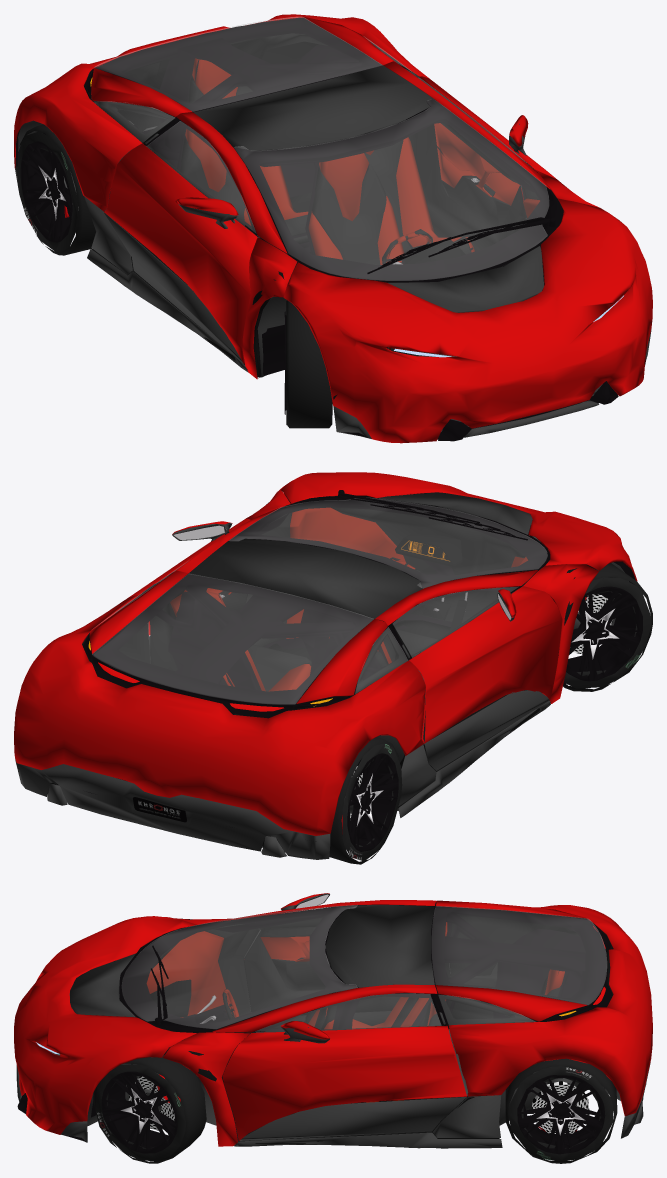
File: car.glb
3 views of the same model, one above another, from view 1: azimuth 30°, elevation 25°; view 2: azimuth 150°, elevation 25°; view 3: azimuth 270°, elevation 25° (orthographic). The views are drawn at different scales.
Visible parts, largest first — view 1: BodyRearPanelsColor1, BodyWindshield, BodyWindshieldGasket, BodyRoofPanel, InteriorDashSides, InteriorDashMid, InteriorSeatsColor2, object 21, WheelFrontLRim, InteriorMid, BodyUnderside, InteriorSteeringDash; view 2: BodyRearPanelsColor1, BodyWindshield, BodyRoofPanel, BodyWindshieldGasket, InteriorDashMid, WheelFrontLRim, object 21, InteriorDashSides, InteriorSeatsColor2, InteriorFloormats, InteriorSteeringDash, BodyUnderside (+2 smaller); view 3: BodyRearPanelsColor1, BodyWindshield, BodyWindshieldGasket, BodyRoofPanel, object 21, WheelFrontLRim, InteriorDashMid, InteriorDashSides, InteriorMid, BodyUnderside, WheelFrontLBrakeDisc, InteriorSeatsColor2 (+1 smaller).
Part boxes in pixels (x1,y1,x2,y2): BodyRearPanelsColor1: (14, 14, 652, 443); BodyWindshield: (94, 17, 548, 280); BodyWindshieldGasket: (16, 17, 646, 441); BodyRoofPanel: (15, 65, 651, 438); InteriorDashSides: (185, 58, 541, 350); InteriorDashMid: (15, 33, 526, 266); InteriorSeatsColor2: (180, 78, 471, 264); object 21: (17, 124, 332, 428); WheelFrontLRim: (20, 141, 332, 414); InteriorMid: (92, 172, 557, 376); BodyUnderside: (18, 77, 602, 431); InteriorSteeringDash: (404, 239, 465, 264); BodyRearPanelsColor1: (14, 472, 637, 835); BodyWindshield: (92, 498, 547, 704); BodyRoofPanel: (15, 492, 550, 859); BodyWindshieldGasket: (18, 490, 635, 841); InteriorDashMid: (47, 503, 525, 851); WheelFrontLRim: (342, 586, 642, 851); object 21: (266, 502, 652, 864); InteriorDashSides: (170, 507, 527, 691); InteriorSeatsColor2: (176, 610, 437, 691); InteriorFloormats: (268, 599, 467, 709); InteriorSteeringDash: (395, 534, 462, 566); BodyUnderside: (47, 519, 628, 857); BodyRearPanelsColor1: (14, 893, 652, 1146); BodyWindshield: (122, 905, 606, 1032); BodyWindshieldGasket: (17, 902, 646, 1145); BodyRoofPanel: (16, 893, 650, 1148); object 21: (93, 1055, 617, 1163); WheelFrontLRim: (101, 1064, 605, 1154); InteriorDashMid: (119, 909, 613, 1031); InteriorDashSides: (146, 922, 564, 1102); InteriorMid: (181, 918, 499, 1144); BodyUnderside: (37, 929, 643, 1126); WheelFrontLBrakeDisc: (128, 1076, 589, 1133); InteriorSeatsColor2: (304, 975, 560, 1103).
Bounding box in the file's own units: 2.54 × 1.15 × 4.35.
23 materials, 6 textured.
